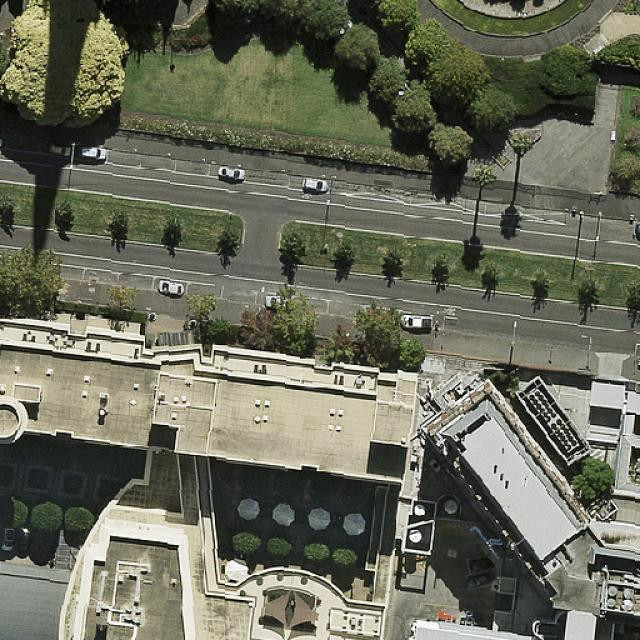Bike-Symbols: (444, 307, 457, 317), (301, 191, 313, 201)
